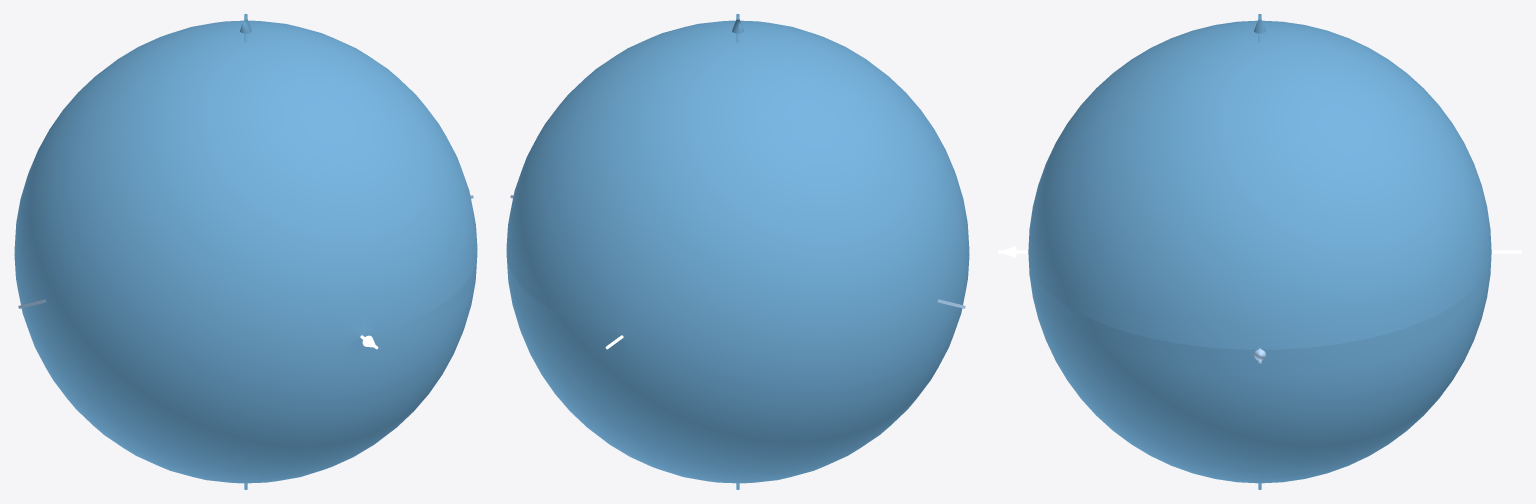
The model's file is bloch-sphere.gltf.
3 renders of one model, left to right at view 1: azimuth 30°, elevation 25°; view 2: azimuth 150°, elevation 25°; view 3: azimuth 270°, elevation 25°, orthographic.
Visible parts, largest first — view 1: Halo; view 2: Halo; view 3: Halo.
Part boxes in pixels (left/top/right/bottom): Halo: left=14, top=20, right=477, bottom=483; Halo: left=506, top=20, right=969, bottom=483; Halo: left=1028, top=20, right=1491, bottom=483.
Bounding box in the file's own units: 2.6 × 2.6 × 2.6.
